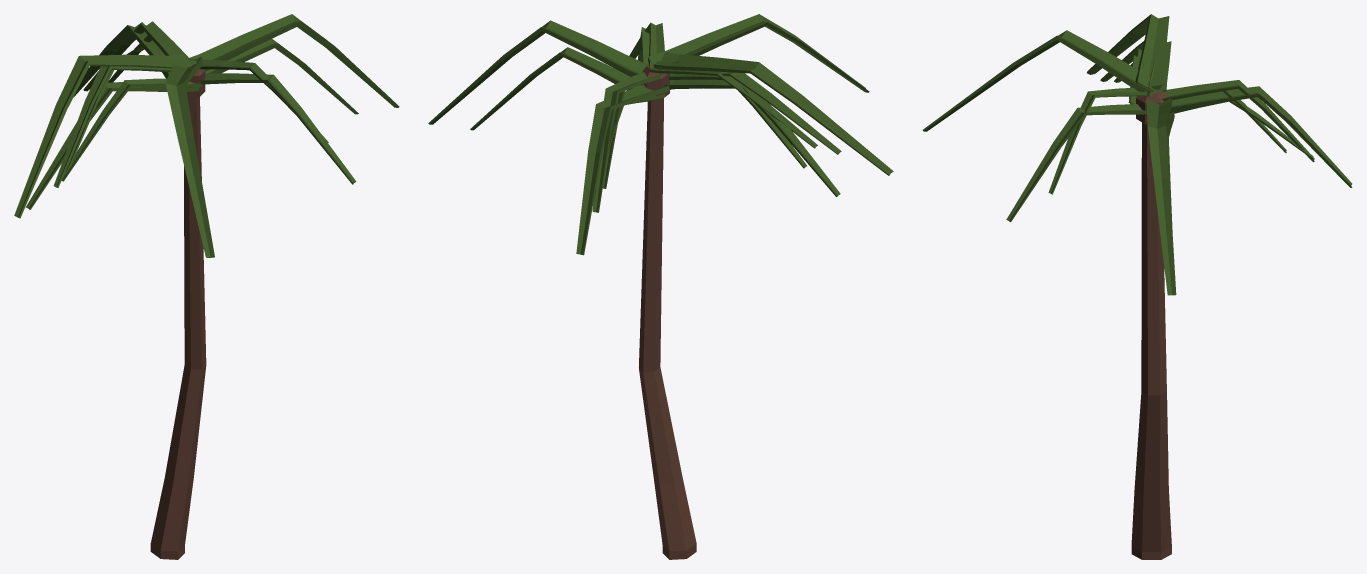
The model's file is Tree2.fbx.
3 views of the same model, side by side, from view 1: azimuth 30°, elevation 25°; view 2: azimuth 150°, elevation 25°; view 3: azimuth 270°, elevation 25° (orthographic).
Visible parts, largest first — view 1: Cube.008, Cube.008|Plane|Dupli|6, Cube.008|Plane|Dupli|13, Cube.008|Plane|Dupli|8, Cube.008|Plane|Dupli|5, Cube.008|Plane|Dupli|11, Cube.008|Plane|Dupli|10, Cube.008|Plane|Dupli|7, Cube.008|Plane|Dupli|3, Cube.008|Plane|Dupli|12, Cube.008|Plane|Dupli|4, Cube.008|Plane|Dupli|1; view 2: Cube.008, Cube.008|Plane|Dupli|6, Cube.008|Plane|Dupli|8, Cube.008|Plane|Dupli|4, Cube.008|Plane|Dupli|13, Cube.008|Plane|Dupli|10, Cube.008|Plane|Dupli|3, Cube.008|Plane|Dupli|12, Cube.008|Plane|Dupli|2, Cube.008|Plane|Dupli|11, Cube.008|Plane|Dupli|7, Cube.008|Plane|Dupli|1; view 3: Cube.008, Cube.008|Plane|Dupli|8, Cube.008|Plane|Dupli|13, Cube.008|Plane|Dupli|6, Cube.008|Plane|Dupli|4, Cube.008|Plane|Dupli|5, Cube.008|Plane|Dupli|12, Cube.008|Plane|Dupli|1, Cube.008|Plane|Dupli|9.
Part boxes in pixels (x1,y1,x2,y2): Cube.008: [150, 69, 206, 559]; Cube.008|Plane|Dupli|6: [14, 54, 196, 218]; Cube.008|Plane|Dupli|13: [165, 56, 214, 257]; Cube.008|Plane|Dupli|8: [189, 14, 399, 107]; Cube.008|Plane|Dupli|5: [200, 73, 356, 184]; Cube.008|Plane|Dupli|11: [53, 66, 170, 187]; Cube.008|Plane|Dupli|10: [26, 82, 199, 209]; Cube.008|Plane|Dupli|7: [61, 78, 201, 181]; Cube.008|Plane|Dupli|3: [205, 39, 358, 114]; Cube.008|Plane|Dupli|12: [83, 21, 188, 91]; Cube.008|Plane|Dupli|4: [73, 22, 169, 97]; Cube.008|Plane|Dupli|1: [187, 58, 328, 142]; Cube.008: [639, 64, 696, 559]; Cube.008|Plane|Dupli|6: [653, 52, 893, 175]; Cube.008|Plane|Dupli|8: [428, 20, 647, 124]; Cube.008|Plane|Dupli|4: [576, 84, 672, 255]; Cube.008|Plane|Dupli|13: [648, 14, 869, 92]; Cube.008|Plane|Dupli|10: [664, 79, 840, 196]; Cube.008|Plane|Dupli|3: [470, 47, 640, 130]; Cube.008|Plane|Dupli|12: [592, 72, 663, 212]; Cube.008|Plane|Dupli|2: [649, 61, 817, 148]; Cube.008|Plane|Dupli|11: [721, 72, 841, 154]; Cube.008|Plane|Dupli|7: [669, 73, 806, 168]; Cube.008|Plane|Dupli|1: [629, 22, 664, 68]; Cube.008: [1131, 90, 1171, 559]; Cube.008|Plane|Dupli|8: [1146, 98, 1176, 295]; Cube.008|Plane|Dupli|13: [922, 30, 1162, 131]; Cube.008|Plane|Dupli|6: [1087, 14, 1169, 89]; Cube.008|Plane|Dupli|4: [1170, 86, 1352, 187]; Cube.008|Plane|Dupli|5: [1006, 104, 1146, 222]; Cube.008|Plane|Dupli|12: [1162, 80, 1314, 162]; Cube.008|Plane|Dupli|1: [1048, 87, 1162, 194]; Cube.008|Plane|Dupli|9: [1170, 101, 1313, 158].
Size of the model in its own units: 19265 by 22364 by 17319.
